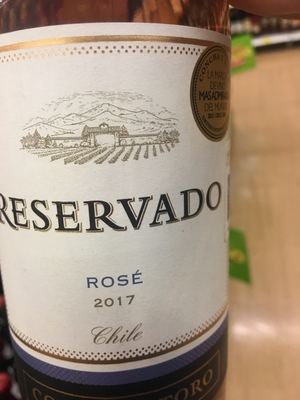reservado rose: (1, 4, 234, 400)
